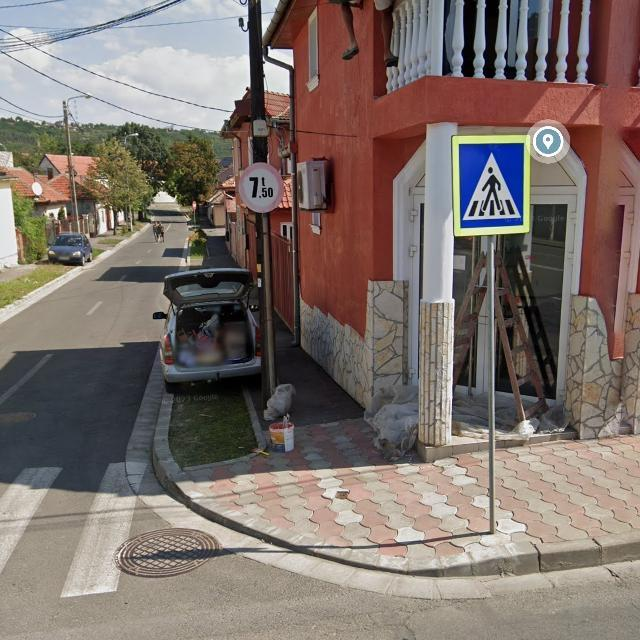info_crosswalk: (451, 135, 531, 236)
